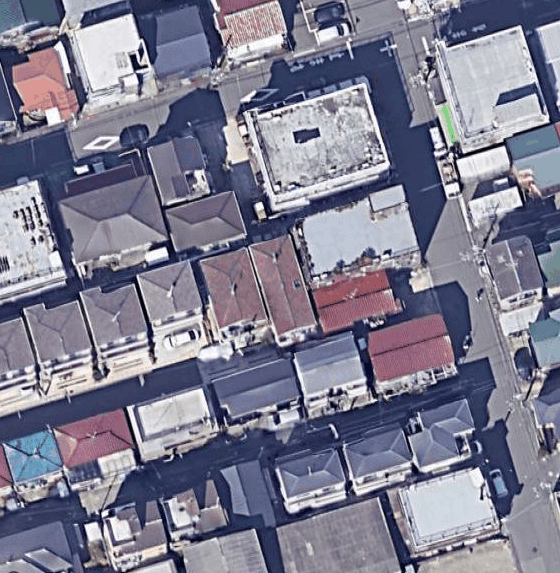facility: (231, 69, 398, 213)
flatroof: (0, 179, 66, 297)
rooftop: (430, 24, 552, 144)
